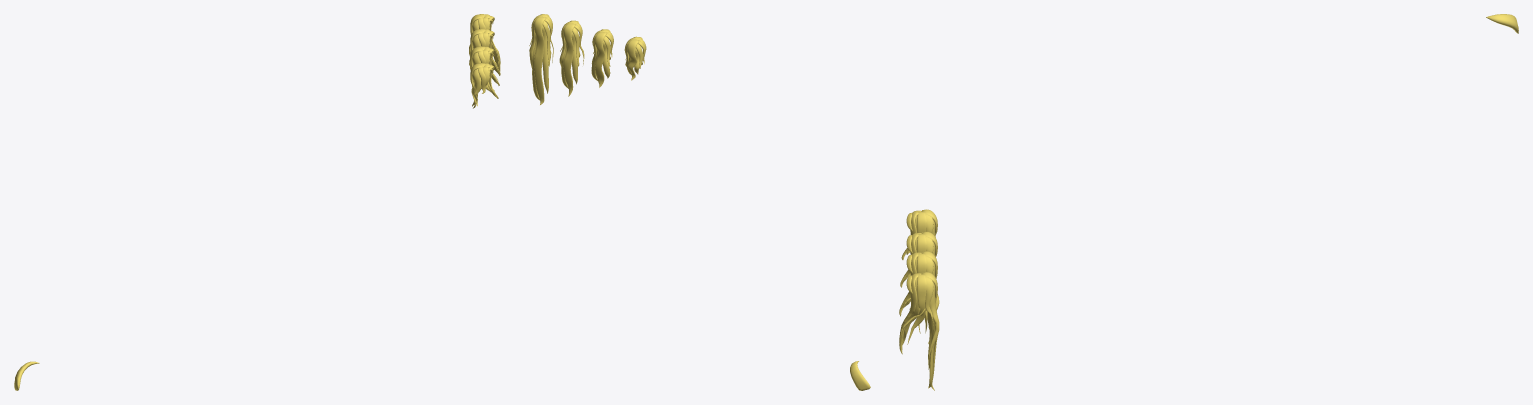
File: doll_hair.fbx
3 renders of one model, left to right at view 1: azimuth 90°, elevation 25°; view 2: azimuth 150°, elevation 25°; view 3: azimuth 270°, elevation 25°, orthographic. The views are drawn at different scales.
Parts seen in each view (by area): view 1: Modeling_Update:polySurface2, Modeling_Update:polySurface2.003, Modeling_Update:polySurface2.002, Modeling_Update:polySurface2.001; view 2: Modeling_Update:polySurface2.003, Modeling_Update:polySurface2.002, Modeling_Update:polySurface2.001, Modeling_Update:polySurface2, Modeling_Update:polySurface20; view 3: Modeling_Update:polySurface2.003, Modeling_Update:polySurface2.002, Modeling_Update:polySurface2, Modeling_Update:polySurface2.001.
Boxes of the visible parts, left/top/right/bottom form: Modeling_Update:polySurface2: left=470, top=63, right=498, bottom=105; Modeling_Update:polySurface2.003: left=469, top=14, right=500, bottom=108; Modeling_Update:polySurface2.002: left=469, top=29, right=500, bottom=106; Modeling_Update:polySurface2.001: left=470, top=46, right=499, bottom=105; Modeling_Update:polySurface2.003: left=529, top=14, right=553, bottom=104; Modeling_Update:polySurface2.002: left=559, top=20, right=584, bottom=96; Modeling_Update:polySurface2.001: left=591, top=29, right=613, bottom=87; Modeling_Update:polySurface2: left=624, top=36, right=646, bottom=80; Modeling_Update:polySurface20: left=850, top=361, right=870, bottom=390; Modeling_Update:polySurface2.003: left=899, top=272, right=939, bottom=390; Modeling_Update:polySurface2.002: left=899, top=251, right=939, bottom=343; Modeling_Update:polySurface2: left=901, top=209, right=937, bottom=259; Modeling_Update:polySurface2.001: left=900, top=231, right=937, bottom=287.
Size of the model in its own units: 839 by 126 by 593.
